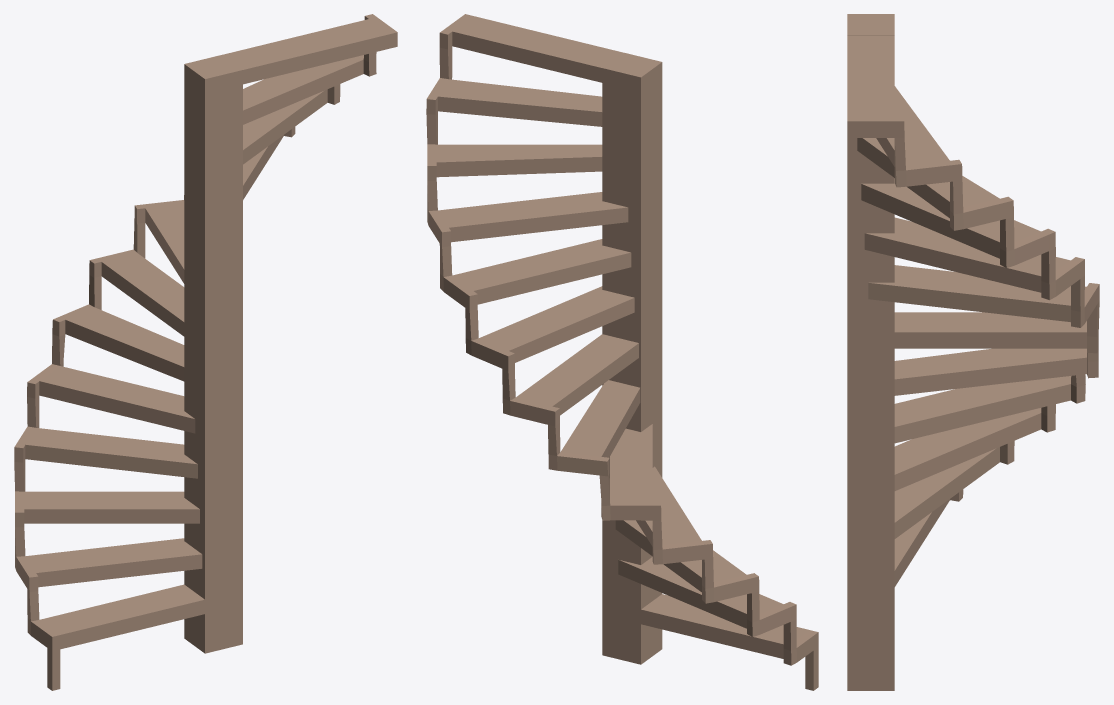
The model's file is Stairs_2.fbx.
The picture shows the model from 3 angles, left to right: view 1: azimuth 30°, elevation 25°; view 2: azimuth 150°, elevation 25°; view 3: azimuth 270°, elevation 25°; orthographic projection. The views are drawn at different scales.
Parts seen in each view (by area): view 1: Stairs_2; view 2: Stairs_2; view 3: Stairs_2.
Boxes of the visible parts, x1,y1,x2,y2 form: Stairs_2: (14,14,397,690); Stairs_2: (426,14,818,690); Stairs_2: (847,14,1099,690).
Bounding box in the file's own units: 216 × 119 × 342.
